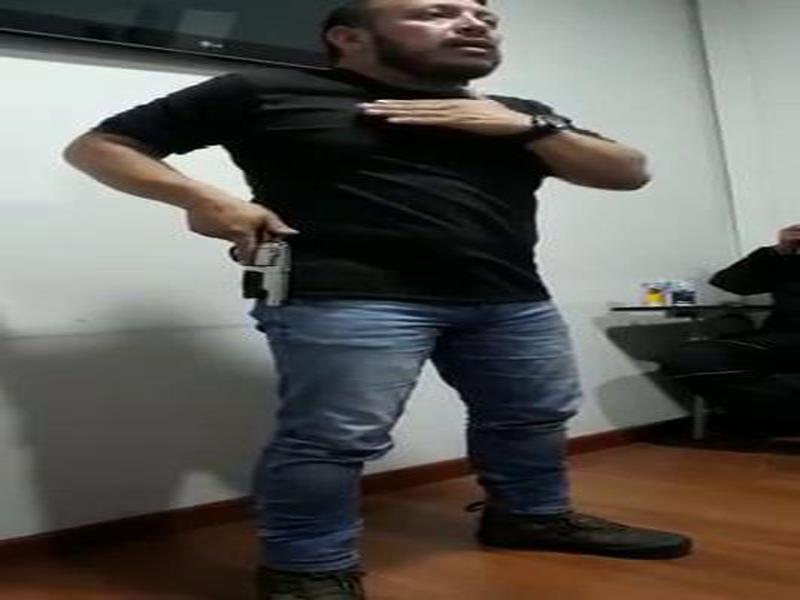Revolver: (217, 194, 318, 338)
